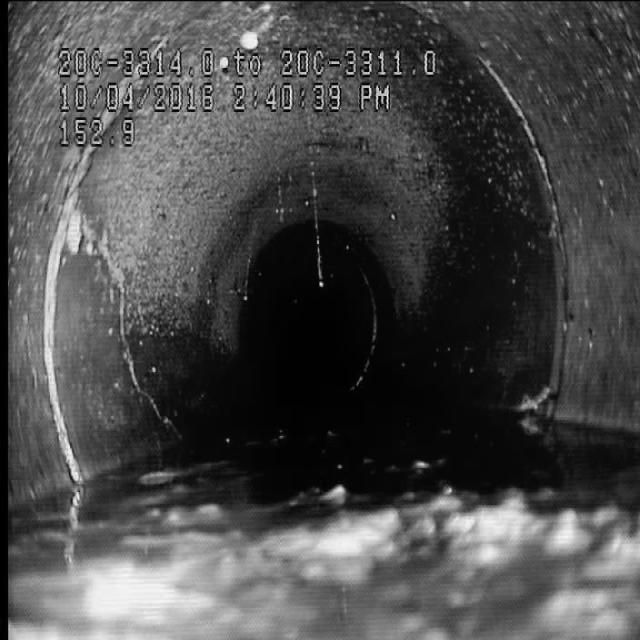Crack: (87, 195, 161, 434)
